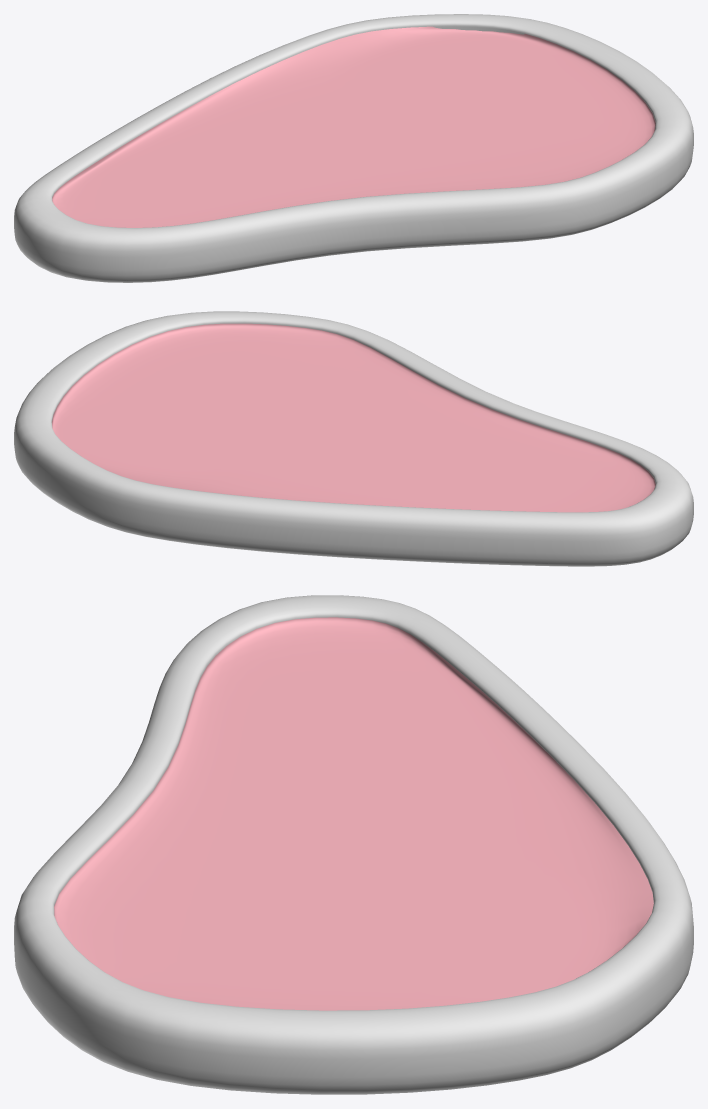
File: Steak.fbx
3 renders of one model, top to bottom at view 1: azimuth 30°, elevation 25°; view 2: azimuth 150°, elevation 25°; view 3: azimuth 270°, elevation 25°, orthographic. The views are drawn at different scales.
Visible parts, largest first — view 1: Middle, Sides; view 2: Middle, Sides; view 3: Middle, Sides.
Part boxes in pixels (left/top/right/bottom): Middle: left=52, top=26, right=655, bottom=227; Sides: left=14, top=14, right=693, bottom=282; Middle: left=52, top=323, right=655, bottom=512; Sides: left=14, top=311, right=693, bottom=566; Middle: left=54, top=617, right=653, bottom=1010; Sides: left=14, top=595, right=693, bottom=1094.
Size of the model in its own units: 262 by 19.67 by 168.
